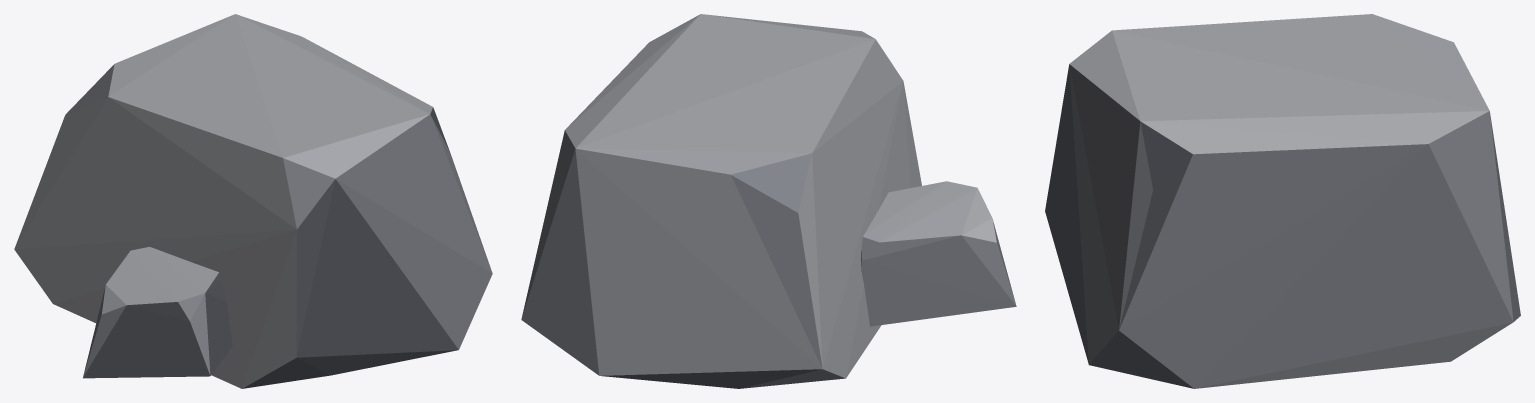
File: rock_medium_a.fbx
3 views of the same model, side by side, from view 1: azimuth 30°, elevation 25°; view 2: azimuth 150°, elevation 25°; view 3: azimuth 270°, elevation 25° (orthographic). The views are drawn at different scales.
Visible parts, largest first — view 1: rock_medium_a; view 2: rock_medium_a; view 3: rock_medium_a.
Part boxes in pixels (x1,y1,x2,y2): rock_medium_a: [14, 14, 492, 388]; rock_medium_a: [521, 14, 1016, 388]; rock_medium_a: [1045, 14, 1520, 388].
Bounding box in the file's own units: 1.45 × 0.8157 × 1.43.
